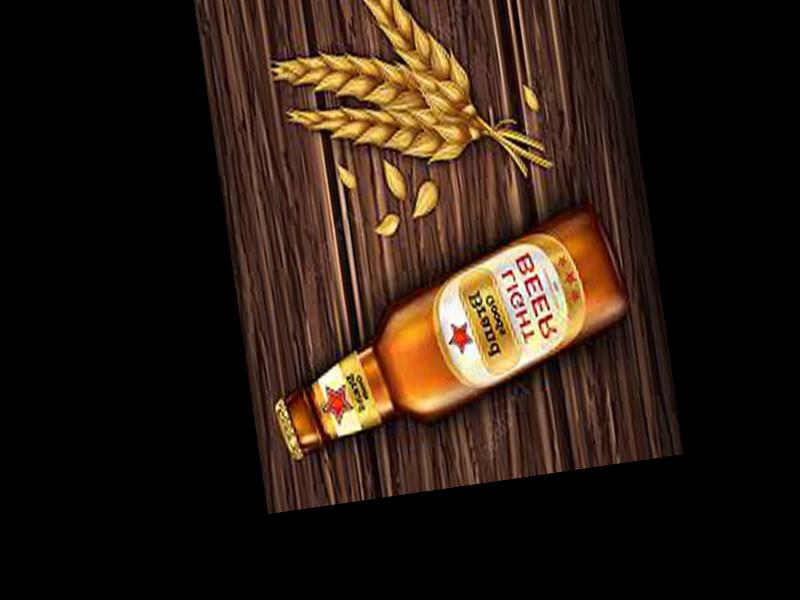Beer: (251, 203, 642, 464)
